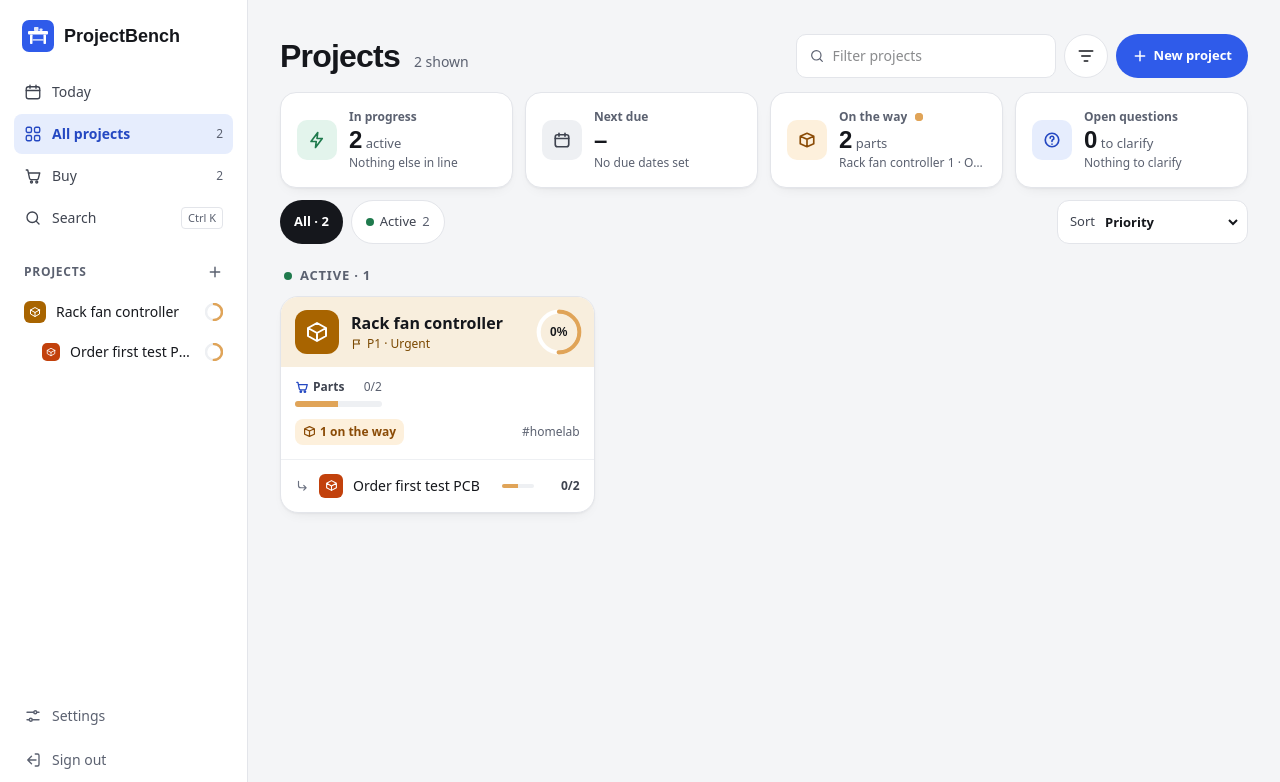
Test: App › shows sub-projects inside their parent and links a sub-project to its parent
Click the link "Order first test PCB 0/2": (437, 486) [295,474,580,498]
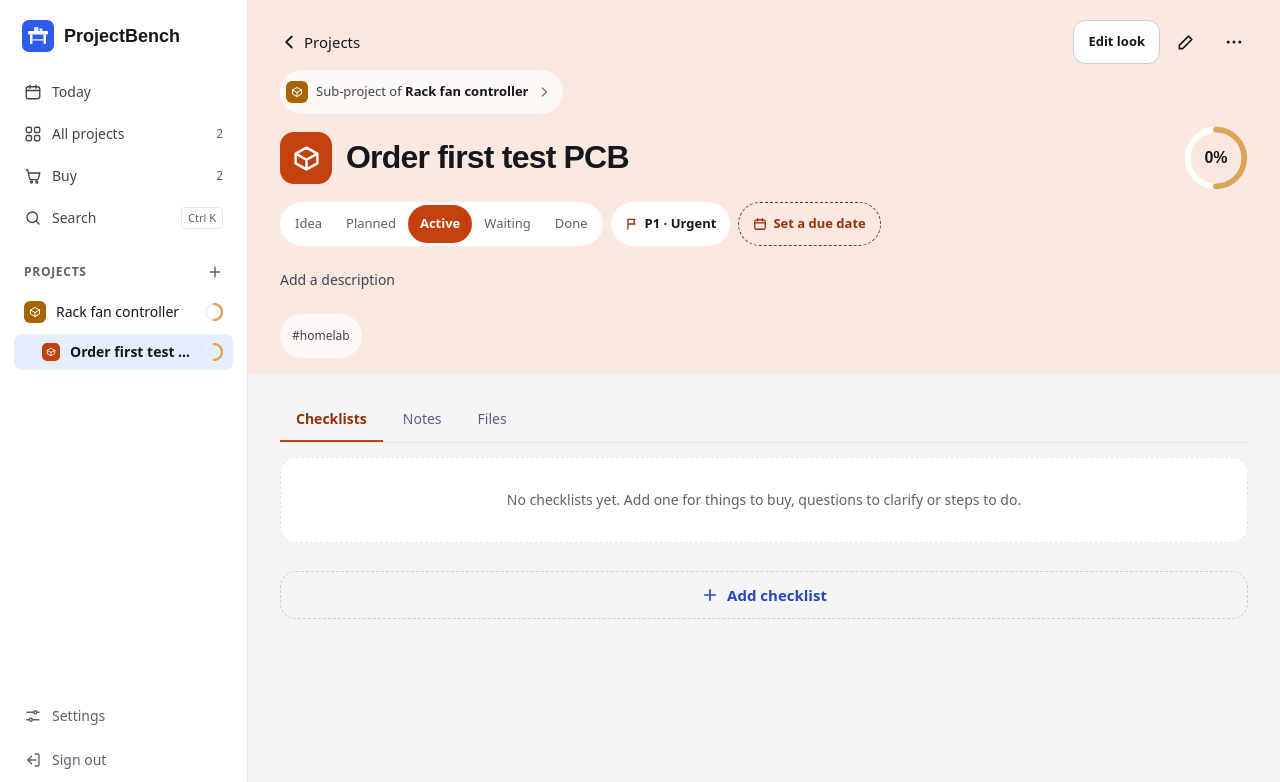
Click the link "Sub-project of Rack fan controller": (421, 92) [280,70,562,114]
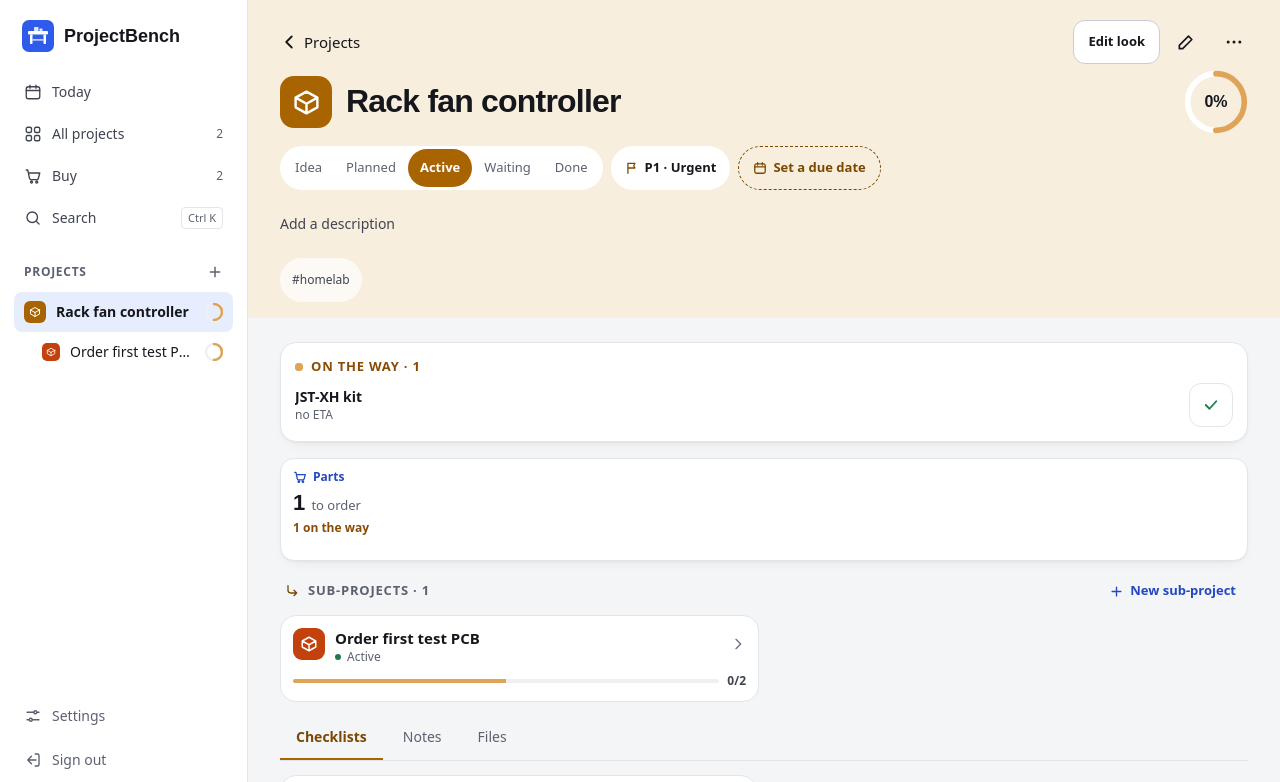
Now the element "Sub-projects · 1" is shown, box [280,577,1248,702]
